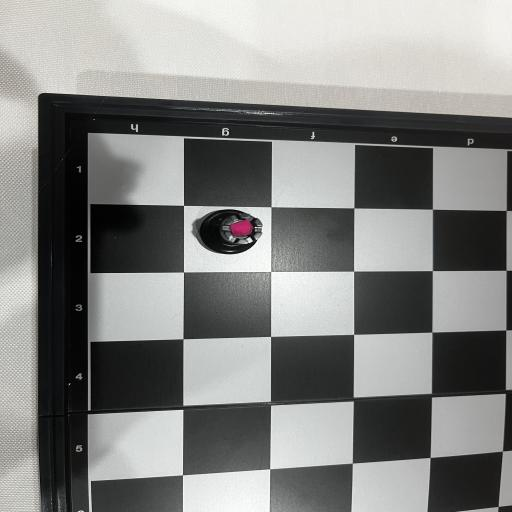Black rook: (200, 209, 263, 254)
